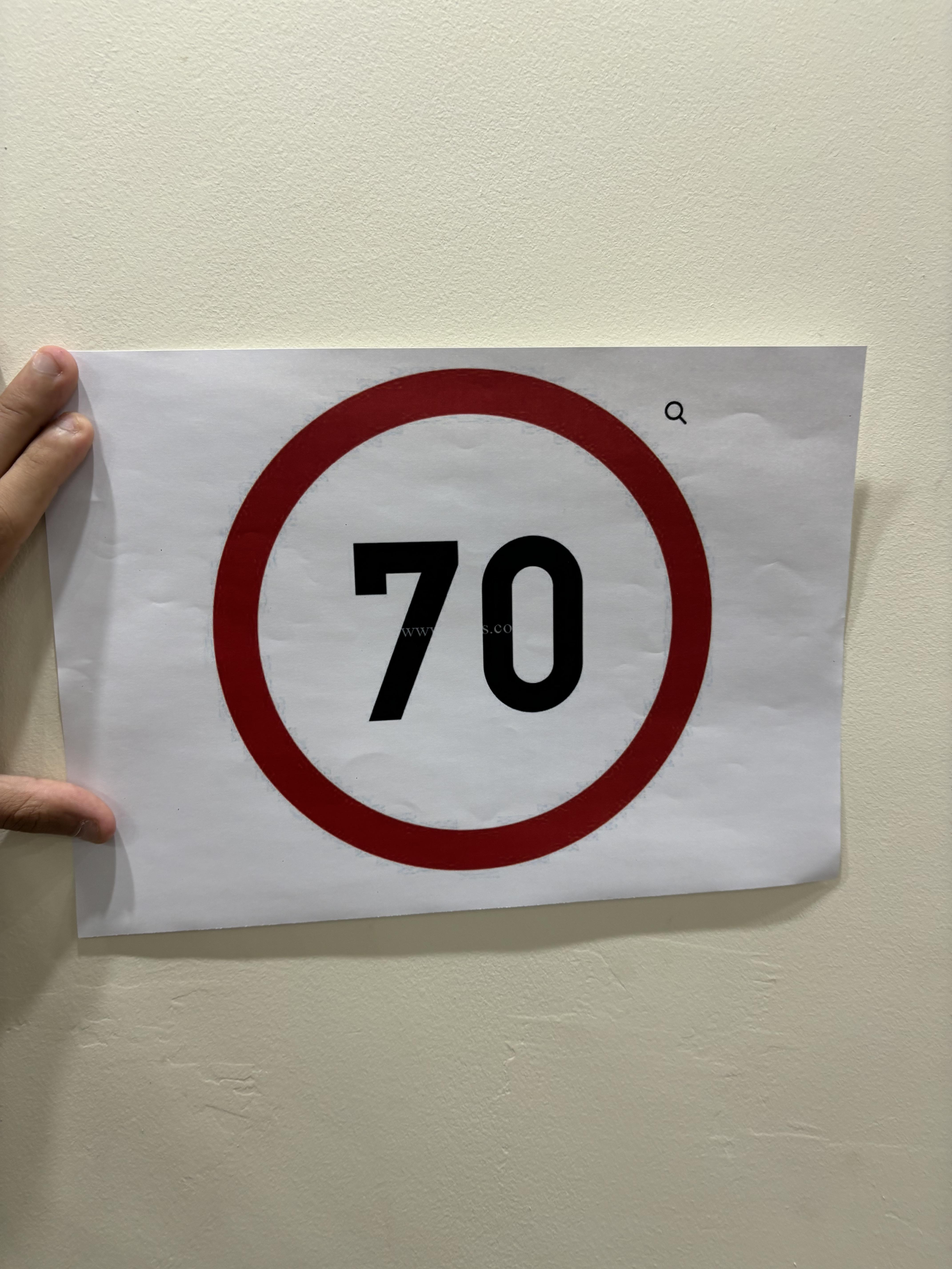70-Speed: (214, 360, 716, 876)
